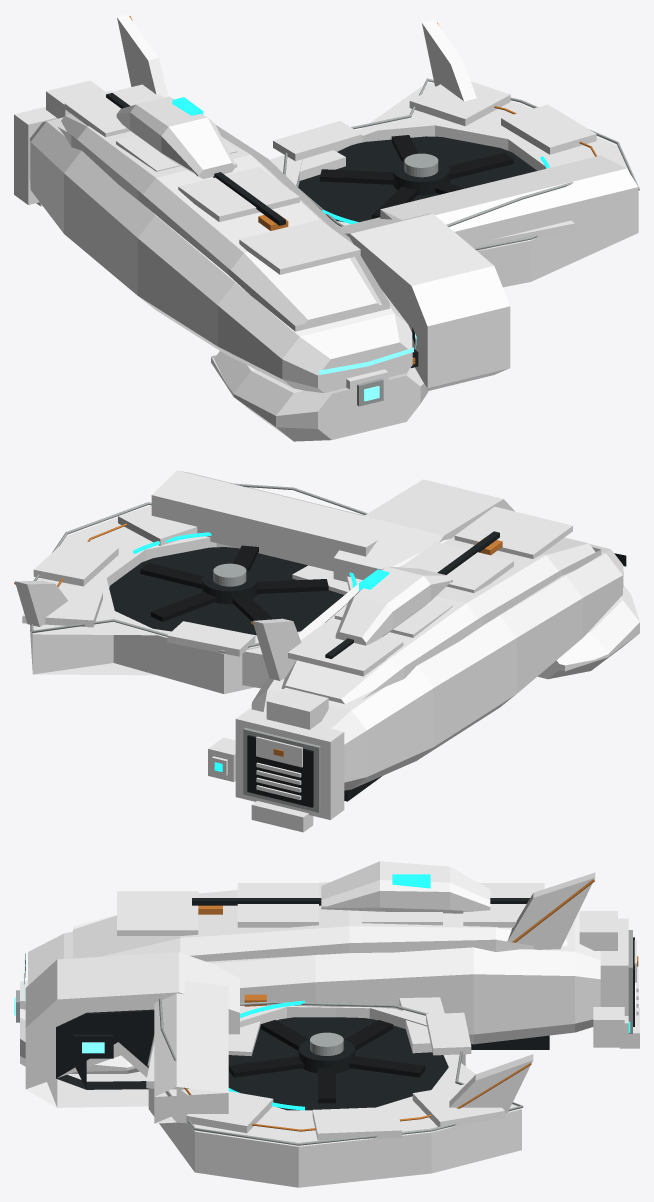
Rendered from morrowgear-family-a-guard-v3.glb.
3 renders of one model, top to bottom at view 1: azimuth 30°, elevation 25°; view 2: azimuth 150°, elevation 25°; view 3: azimuth 270°, elevation 25°, orthographic. The views are drawn at different scales.
Visible parts, largest first — view 1: F01_Fuselage, F02_UpperArmor, GRD_AegisShoulder.R, GRD_DuctBrow.R, W02_DuctWing.R, GRD_ChinArmor, R02_InnerWell.R, GRD_SensorSpine, F02_TopPanel_0, F02_TopPanel_1, W02_ArmorPanel_2.R, W02_ArmorPanel_3.R (+16 smaller); view 2: F01_Fuselage, W02_DuctWing.R, GRD_DuctBrow.R, F02_UpperArmor, R02_InnerWell.R, GRD_AegisShoulder.R, GRD_SensorSpine, V01_RearHousing, GRD_ChinArmor, F02_TopPanel_0, F02_TopPanel_3, F02_TopPanel_1 (+23 smaller); view 3: F01_Fuselage, W02_DuctWing.R, GRD_AegisShoulder.R, F02_UpperArmor, R02_InnerWell.R, GRD_DuctBrow.R, GRD_SensorSpine, GRD_ShoulderInset.R, F02_TopPanel_0, T02_CenterFin.R, F02_TopPanel_1, W02_ArmorPanel_2.R (+26 smaller).
Boxes of the visible parts, x1,y1,x2,y2 form: F01_Fuselage: (29,117,412,393); F02_UpperArmor: (58,114,389,331); GRD_AegisShoulder.R: (339,213,510,390); GRD_DuctBrow.R: (380,155,638,250); W02_DuctWing.R: (285,82,638,287); GRD_ChinArmor: (211,351,428,441); R02_InnerWell.R: (298,136,536,222); GRD_SensorSpine: (116,96,237,178); F02_TopPanel_0: (239,219,360,274); F02_TopPanel_1: (178,167,299,221); W02_ArmorPanel_2.R: (501,104,596,154); W02_ArmorPanel_3.R: (409,81,510,126); F01_Fuselage: (251,544,623,790); W02_DuctWing.R: (30,506,362,694); GRD_DuctBrow.R: (151,470,386,571); F02_UpperArmor: (281,537,601,703); R02_InnerWell.R: (109,547,344,635); GRD_AegisShoulder.R: (333,479,514,581); GRD_SensorSpine: (335,566,452,645); V01_RearHousing: (235,709,344,819); GRD_ChinArmor: (538,585,639,679); F02_TopPanel_0: (454,506,572,558); F02_TopPanel_3: (288,623,403,676); F02_TopPanel_1: (401,542,513,592); F01_Fuselage: (28,912,600,1044); W02_DuctWing.R: (148,1005,521,1187); GRD_AegisShoulder.R: (25,952,239,1107); F02_UpperArmor: (73,882,567,961); R02_InnerWell.R: (228,1017,448,1110); GRD_DuctBrow.R: (154,981,228,1123); GRD_SensorSpine: (321,861,490,913); GRD_ShoulderInset.R: (56,1009,154,1089); F02_TopPanel_0: (117,891,198,935); T02_CenterFin.R: (507,872,595,949); F02_TopPanel_1: (237,883,318,927); W02_ArmorPanel_2.R: (312,1106,401,1140).
Size of what is drawn, in the model's own units: 4.8 by 2.39 by 5.55.
